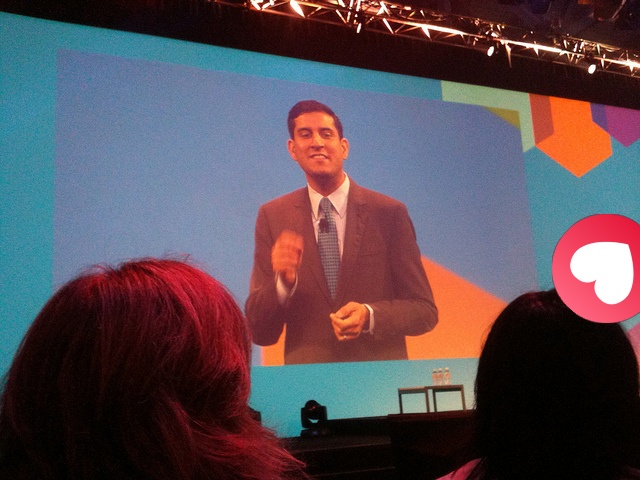love: (552, 214, 640, 323)
